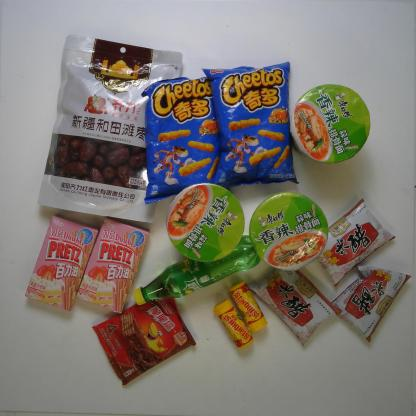Candy: (210, 297, 256, 353), (226, 278, 269, 335)
Dessert: (90, 286, 199, 388), (23, 212, 103, 315), (74, 214, 152, 316)
Dried Food: (35, 31, 188, 228)
Drink: (129, 232, 263, 308)
Instant Noodles: (286, 82, 373, 165), (246, 189, 331, 273), (164, 180, 247, 264)
Puffed Food: (197, 58, 303, 192), (139, 74, 232, 209)
Seasoner: (245, 264, 345, 349), (314, 195, 397, 289), (327, 262, 413, 345)
